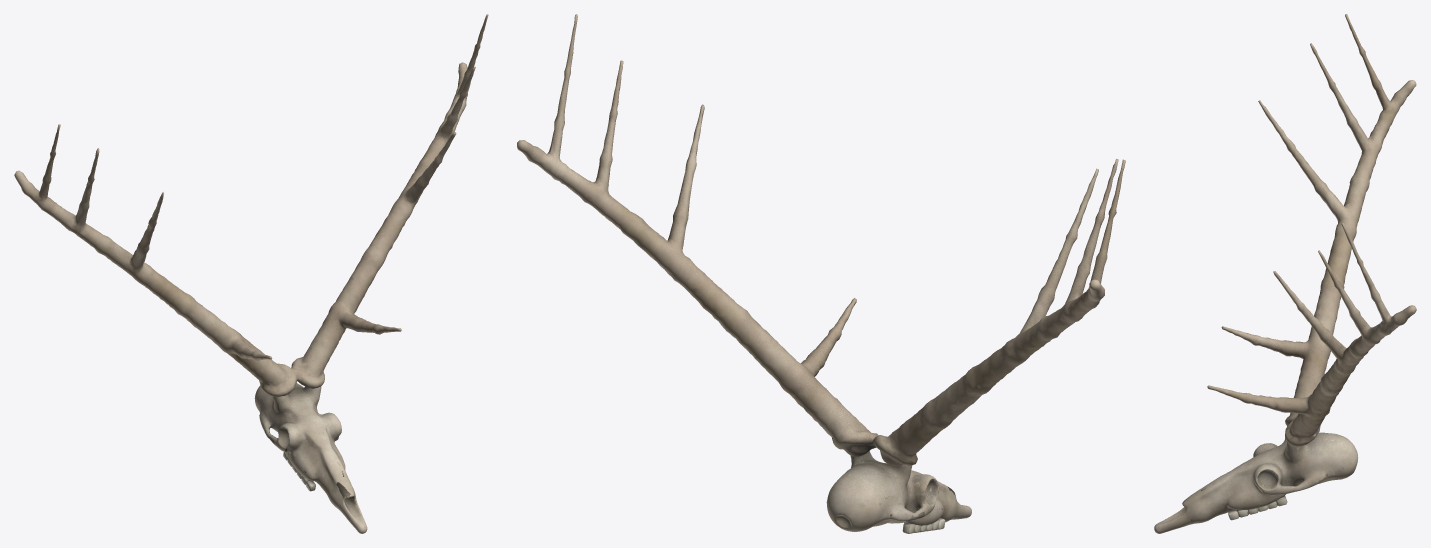
The model's file is elk_skull.glb.
The picture shows the model from 3 angles, left to right: view 1: azimuth 30°, elevation 25°; view 2: azimuth 150°, elevation 25°; view 3: azimuth 270°, elevation 25°; orthographic projection. The views are drawn at different scales.
Parts seen in each view (by area): view 1: Elk_Antlers, Elk_Skull; view 2: Elk_Antlers, Elk_Skull; view 3: Elk_Antlers, Elk_Skull, Elk_Teeth.
Boxes of the visible parts, left/top/right/bottom form: Elk_Antlers: left=14, top=14, right=488, bottom=396; Elk_Skull: left=254, top=383, right=367, bottom=533; Elk_Antlers: left=517, top=14, right=1125, bottom=466; Elk_Skull: left=826, top=451, right=971, bottom=531; Elk_Antlers: left=1207, top=14, right=1416, bottom=446; Elk_Skull: left=1154, top=426, right=1358, bottom=533; Elk_Teeth: left=1228, top=496, right=1287, bottom=520.
Bounding box in the file's own units: 1.5 × 1.28 × 0.7261.
1 material, 1 textured.
